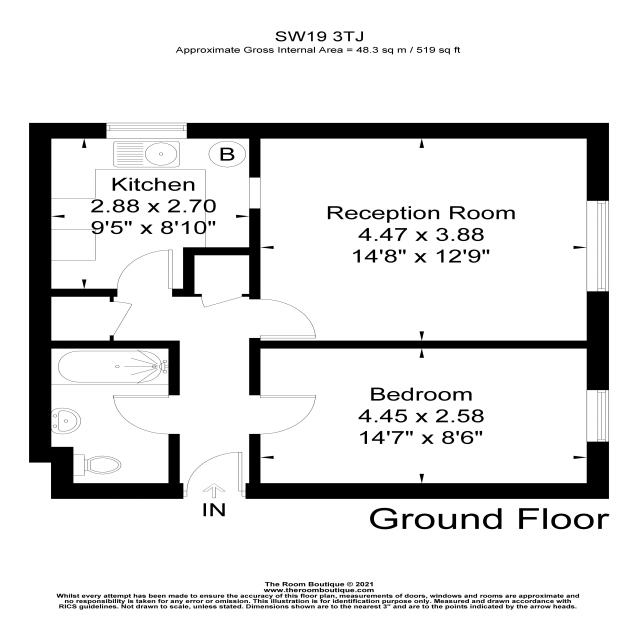DOOR: (247, 297, 318, 340), (115, 248, 175, 298), (111, 394, 181, 436), (248, 394, 317, 436), (185, 451, 243, 498)
ROOM: (248, 122, 609, 349), (247, 340, 610, 500), (28, 122, 261, 297)
WINDOW: (585, 199, 610, 293), (105, 122, 188, 140), (585, 388, 611, 445), (248, 176, 262, 210)
